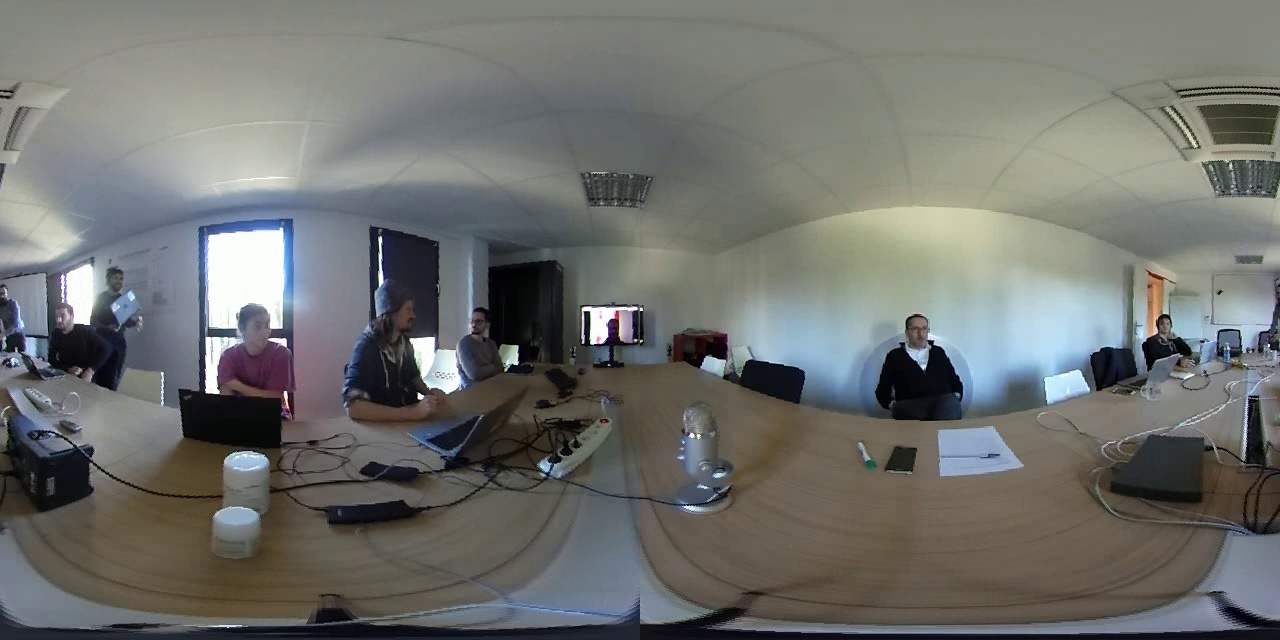person: (341, 274, 434, 427), (873, 307, 970, 413), (217, 294, 291, 404), (451, 300, 513, 380), (38, 298, 93, 380), (96, 260, 135, 369), (1141, 306, 1198, 373), (2, 282, 28, 366), (582, 309, 637, 342)
